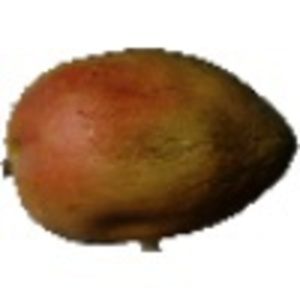mamão: (5, 44, 296, 244)
